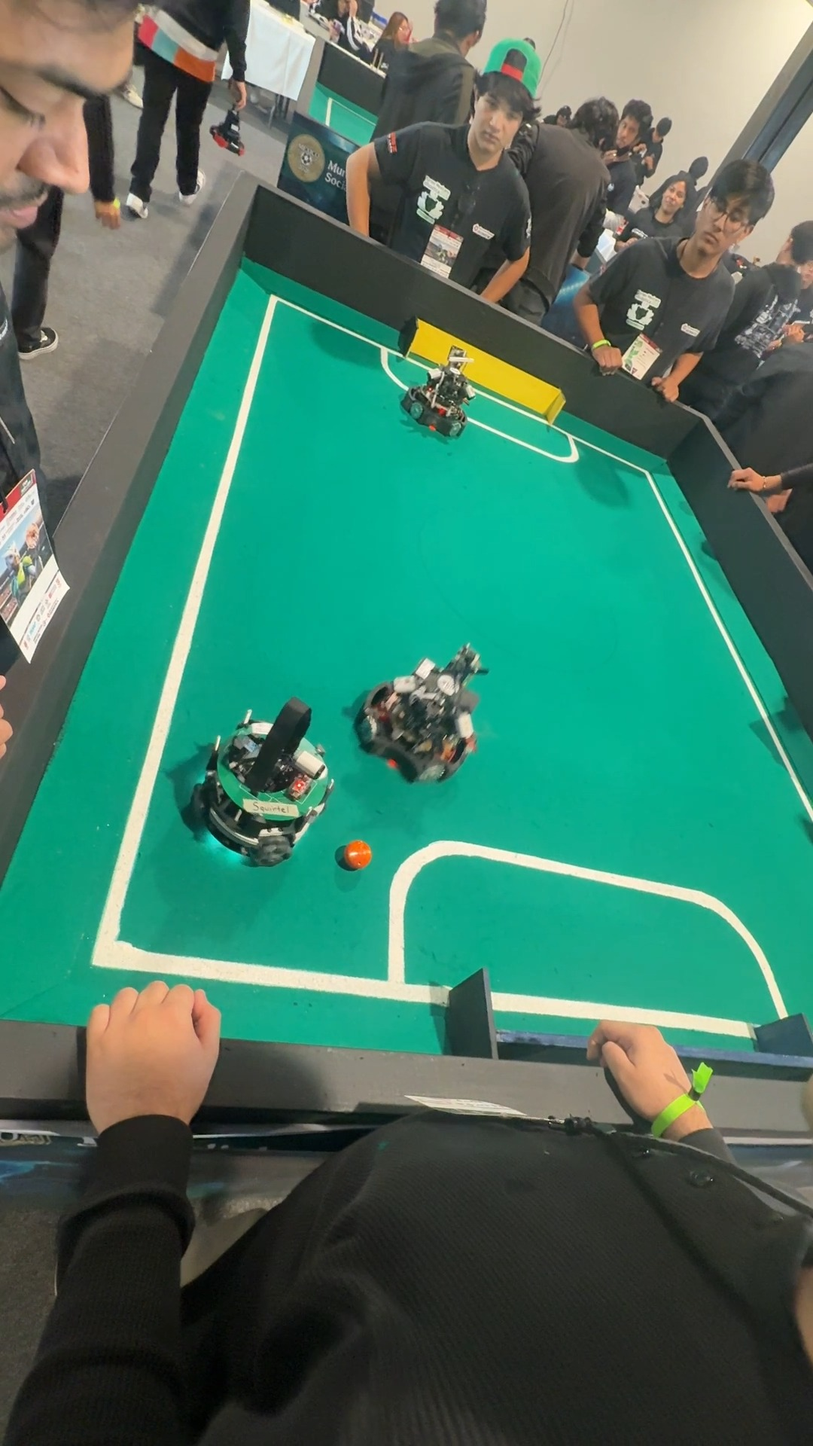Robot: (185, 683, 341, 888), (355, 629, 486, 787), (405, 340, 476, 443)
pelota: (344, 839, 373, 874)
